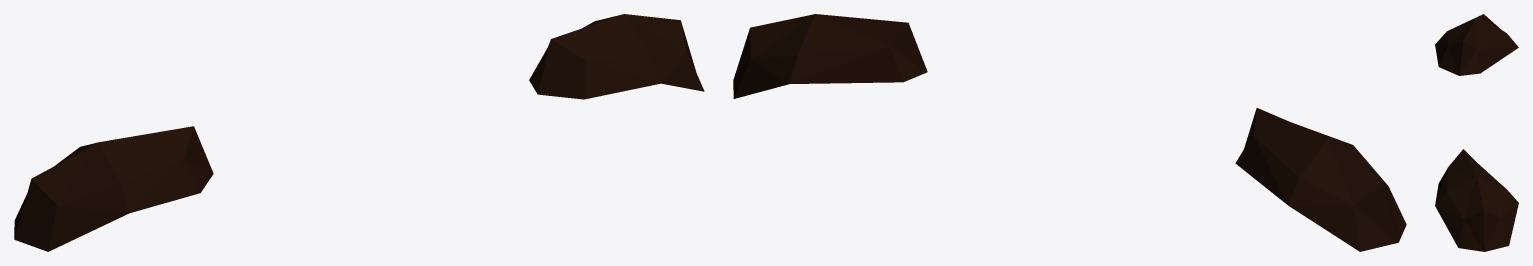
File: Eyes 01.FBX
3 views of the same model, side by side, from view 1: azimuth 30°, elevation 25°; view 2: azimuth 150°, elevation 25°; view 3: azimuth 270°, elevation 25° (orthographic). The views are drawn at different scales.
Visible parts, largest first — view 1: Eyes 01; view 2: Eyes 01; view 3: Eyes 01.
Boxes of the visible parts, x1,y1,x2,y2 form: Eyes 01: [14, 14, 704, 251]; Eyes 01: [733, 14, 1406, 251]; Eyes 01: [1435, 14, 1518, 251].
Bounding box in the file's own units: 17.9 × 3.07 × 2.16.
